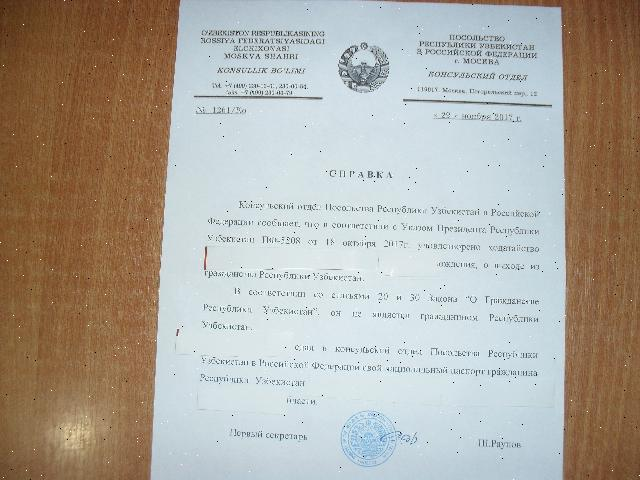stamp: (340, 410, 396, 467)
